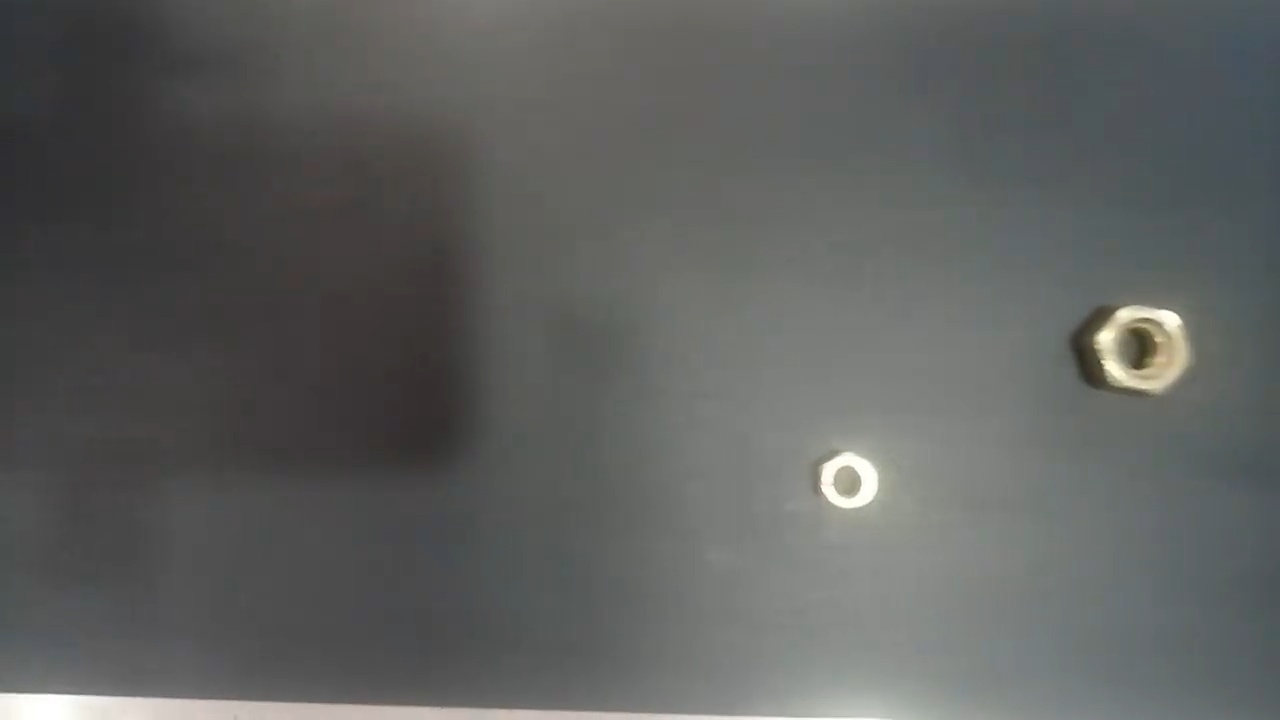Bolt: (1086, 298, 1193, 398), (820, 450, 880, 509)
